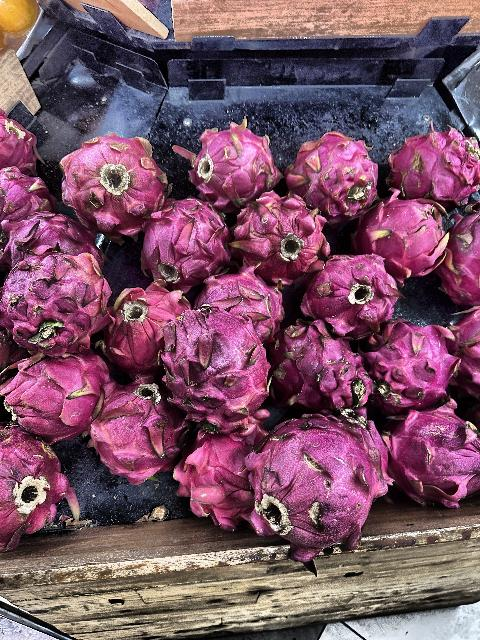buah-naga-matang: (247, 398, 365, 540), (155, 301, 271, 421), (177, 408, 275, 538), (0, 238, 116, 346), (376, 390, 480, 510), (2, 420, 90, 552), (50, 137, 162, 236), (100, 284, 200, 388), (88, 372, 186, 478), (355, 190, 463, 286), (358, 316, 466, 412), (266, 314, 377, 406), (282, 126, 390, 220), (3, 340, 106, 436), (185, 118, 287, 205), (232, 189, 327, 281), (386, 114, 480, 204), (140, 199, 234, 289), (193, 262, 293, 338), (305, 244, 393, 330)
